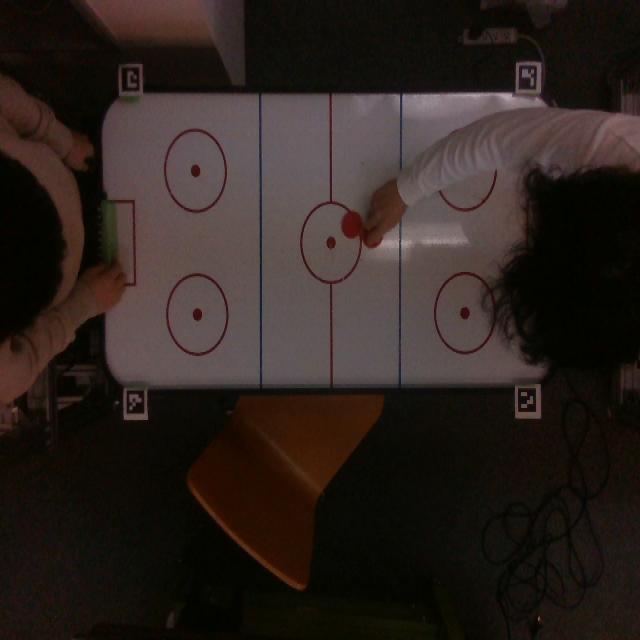puck: (342, 210, 362, 238)
